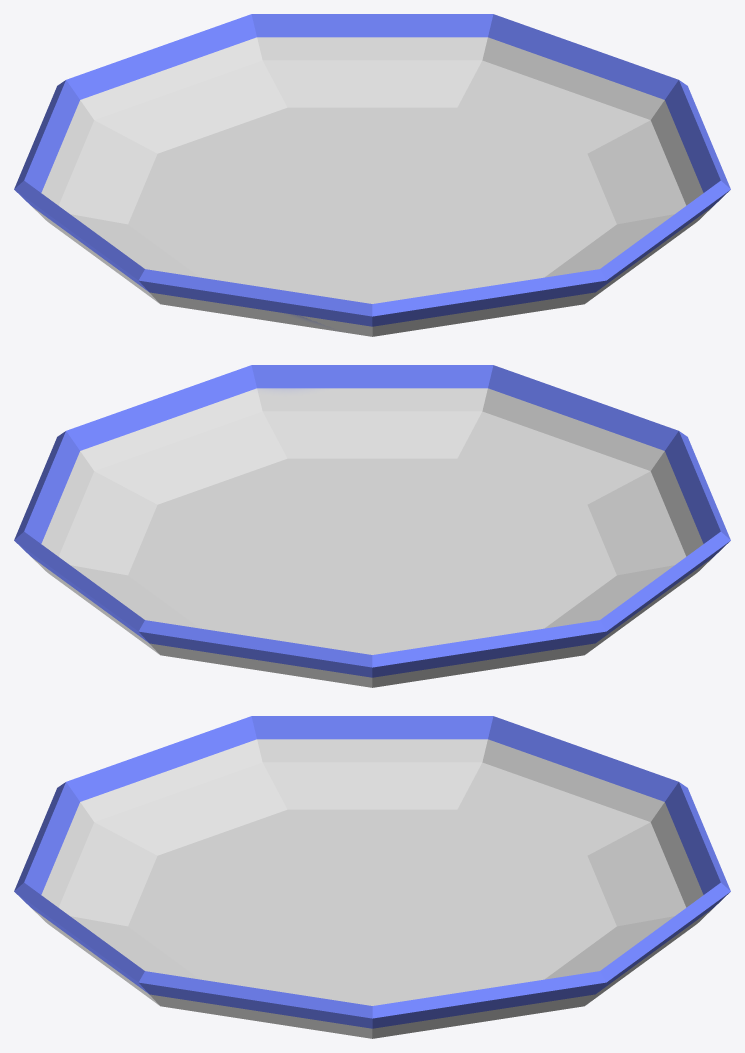
The model's file is diner_plate.glb.
3 renders of one model, top to bottom at view 1: azimuth 30°, elevation 25°; view 2: azimuth 150°, elevation 25°; view 3: azimuth 270°, elevation 25°, orthographic.
Visible parts, largest first — view 1: Cube; view 2: Cube; view 3: Cube.
Part boxes in pixels (bbox=[...]): Cube: bbox=[14, 14, 730, 336]; Cube: bbox=[14, 365, 730, 687]; Cube: bbox=[14, 716, 730, 1038].
Size of the model in its own units: 0.9813 by 0.1126 by 0.9964.
Materials: 1 (1 with a texture image).
